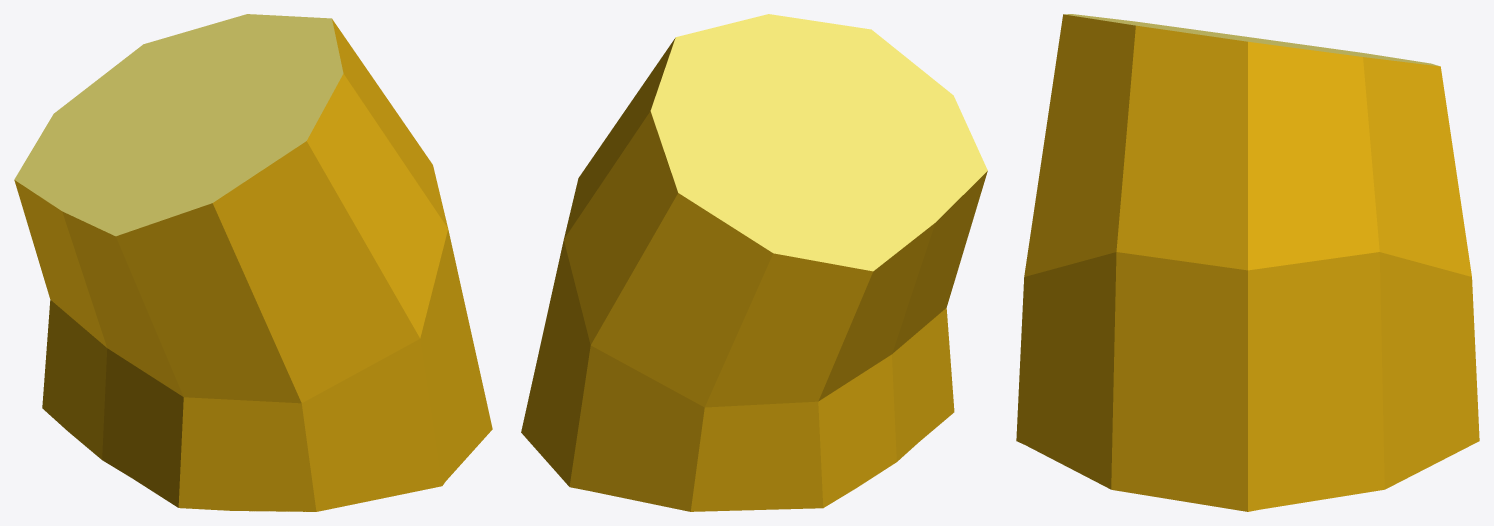
Rendered from BananaQu2.fbx.
3 views of the same model, side by side, from view 1: azimuth 30°, elevation 25°; view 2: azimuth 150°, elevation 25°; view 3: azimuth 270°, elevation 25° (orthographic). The views are drawn at different scales.
Parts seen in each view (by area): view 1: BananaQu2; view 2: BananaQu2; view 3: BananaQu2.
Part boxes in pixels (x1,y1,x2,y2): BananaQu2: (14,14,492,511); BananaQu2: (521,14,987,511); BananaQu2: (1016,14,1479,511).
Bounding box in the file's own units: 179 × 161 × 169.
